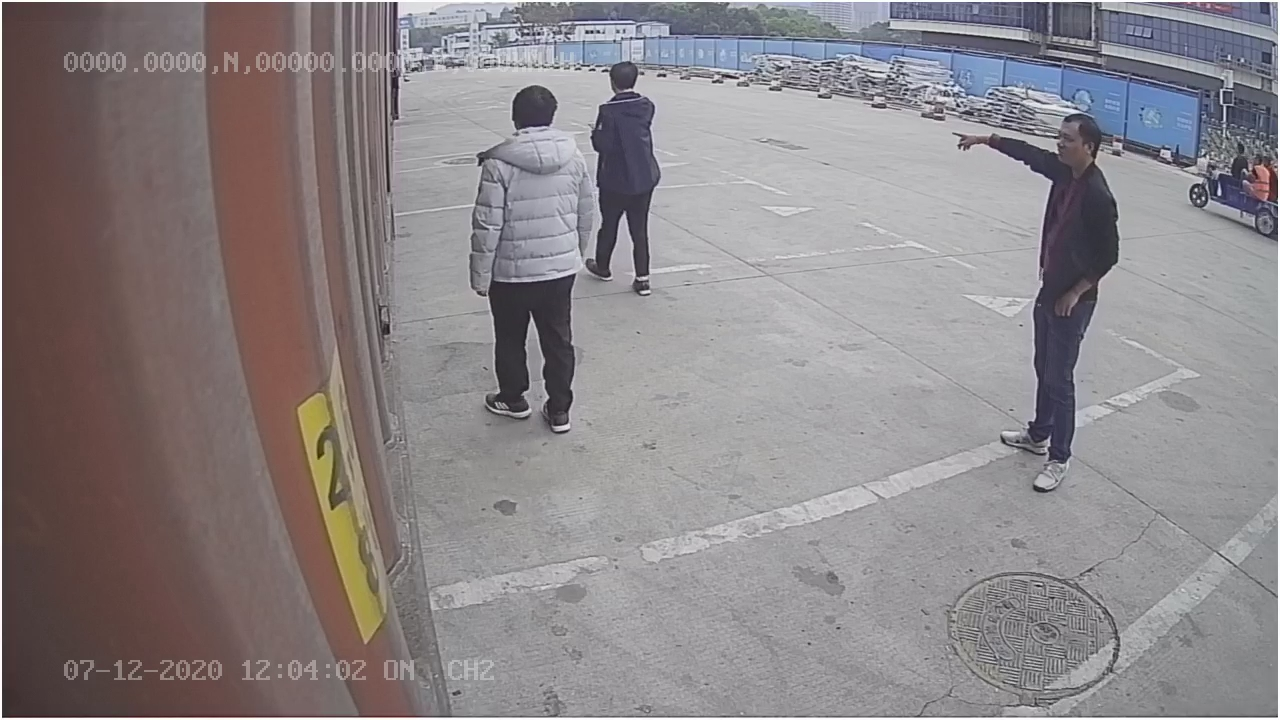person: (948, 101, 1129, 495), (465, 84, 597, 431)
